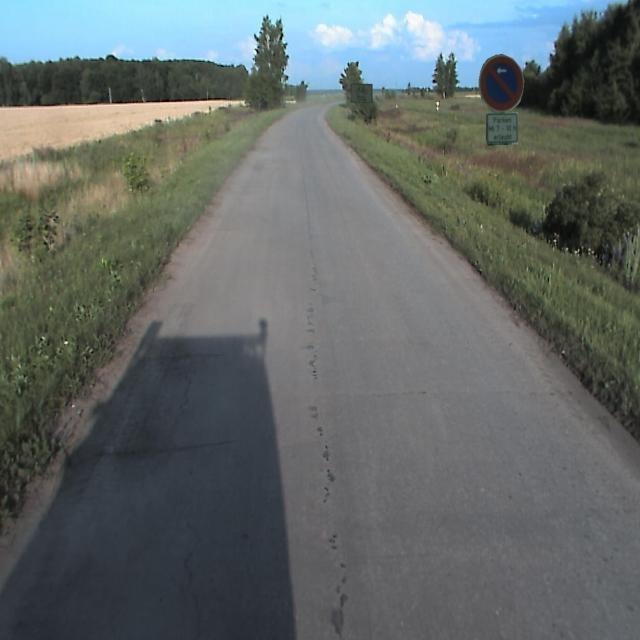road: (0, 103, 639, 639)
